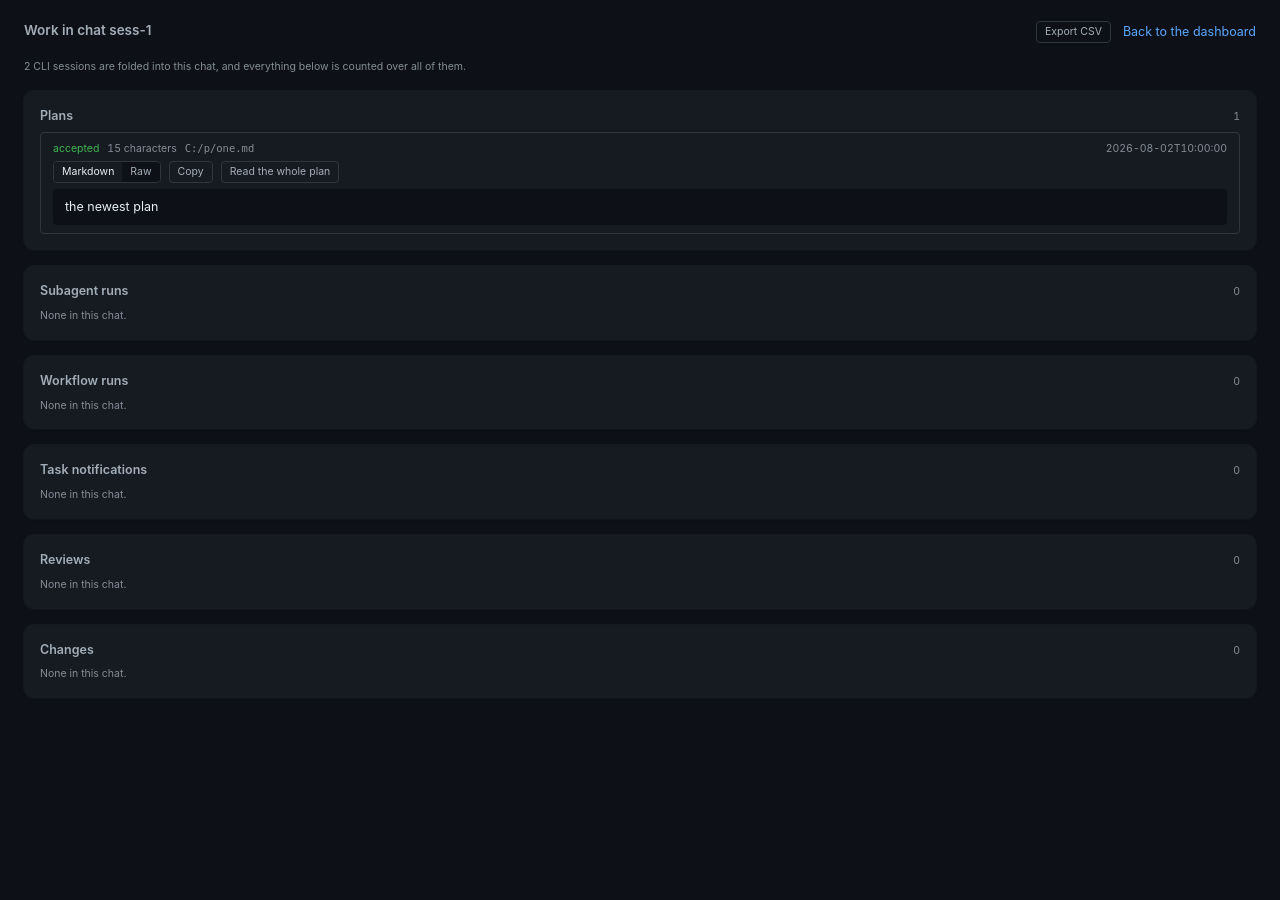
Test case: a plan is a document, not its opening › says whether the file it names is still there, once it knows
Expected: the text "no longer on disk" is not shown
Step 1. Click the button "Read the whole plan" → (280, 172), box [221,161,339,183]
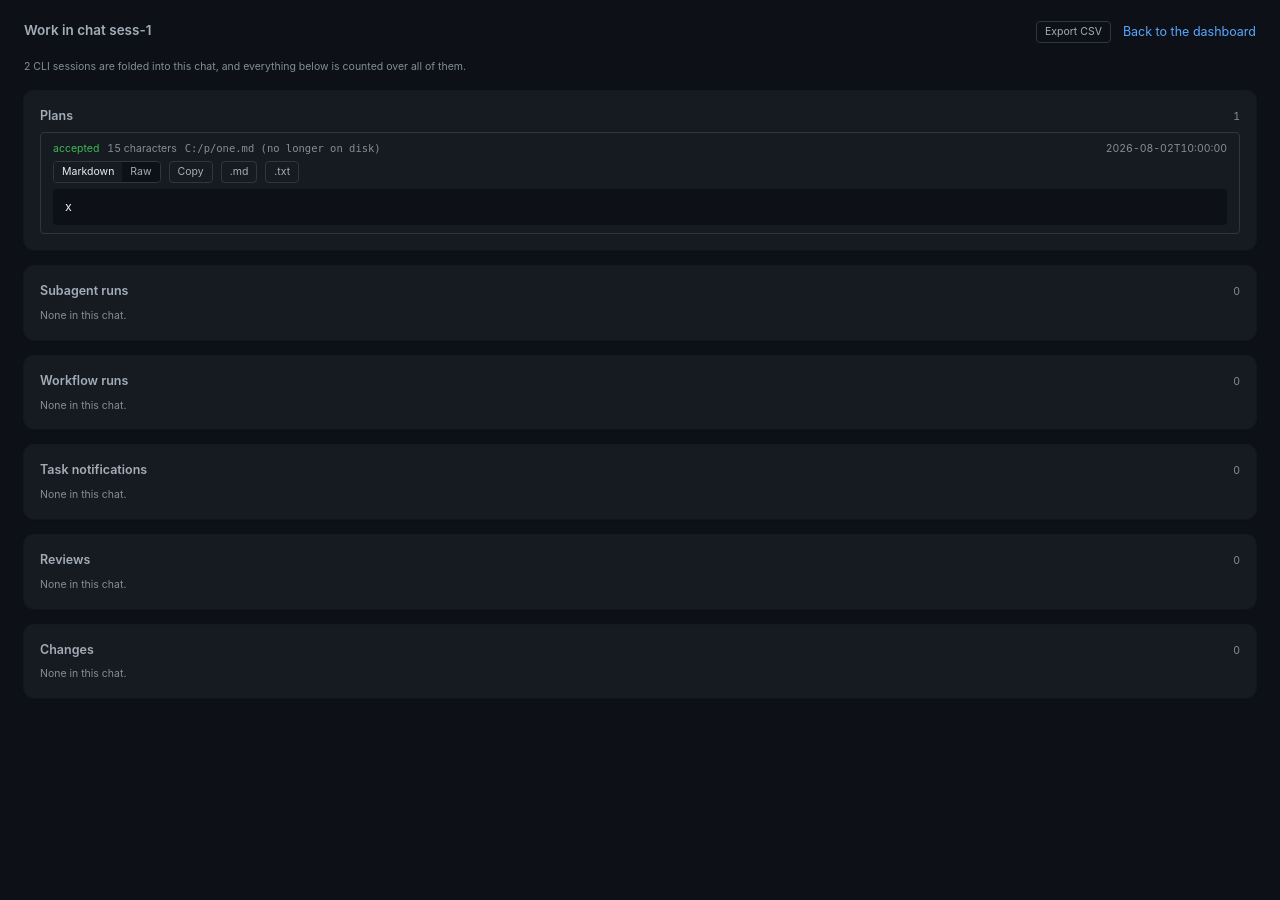
Expected: the text "C:/p/one.md (no longer on disk)" is shown, [185,141,381,157]
